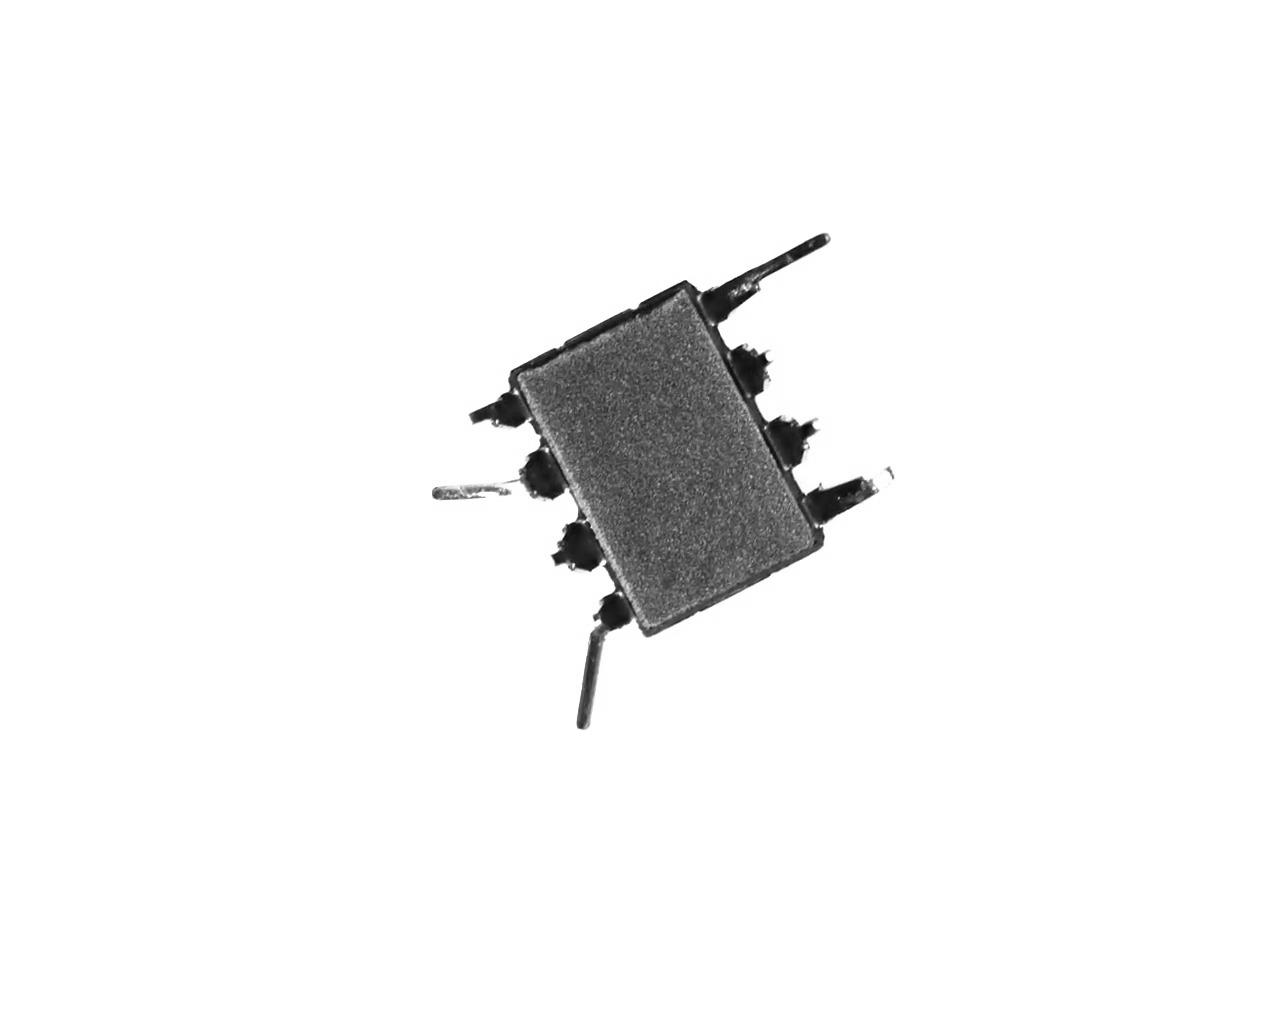Leg: (683, 223, 839, 331), (408, 452, 571, 527), (574, 587, 636, 742), (794, 443, 905, 526)
brokenLeg: (443, 393, 540, 440), (764, 414, 835, 475), (540, 516, 607, 577), (737, 331, 777, 396)
